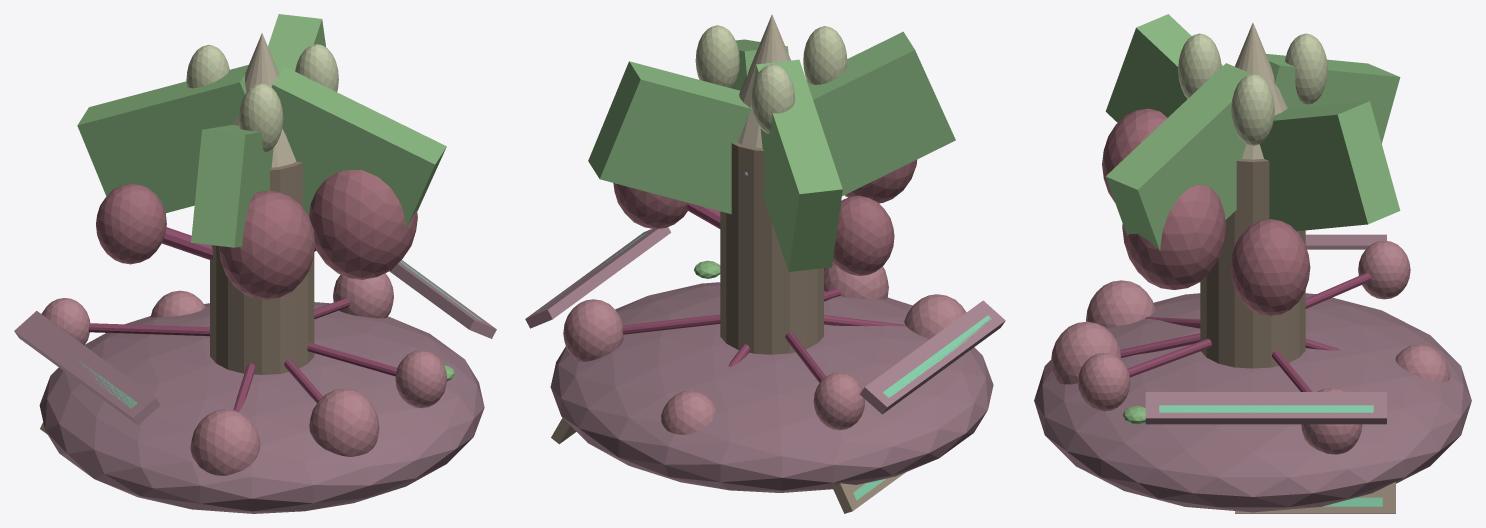
Rendered from zglengo_air_spire.glb.
3 renders of one model, left to right at view 1: azimuth 30°, elevation 25°; view 2: azimuth 150°, elevation 25°; view 3: azimuth 270°, elevation 25°, orthographic.
Parts seen in each view (by area): view 1: base_mound, wing_membrane_3, wing_membrane_0, spire_trunk, breathe_sac_3, wing_membrane_1, breathe_sac_2, membrane_0, breathe_sac_0, bubo_5, bubo_2, bubo_3 (+12 smaller); view 2: base_mound, wing_membrane_2, wing_membrane_1, spire_trunk, wing_membrane_3, membrane_0, breathe_sac_0, bubo_1, membrane_1, bubo_0, air_cyst_0, breathe_sac_1 (+12 smaller); view 3: base_mound, wing_membrane_2, wing_membrane_0, spire_trunk, membrane_1, breathe_sac_3, breathe_sac_1, wing_membrane_1, wing_membrane_3, bubo_5, air_cyst_0, bubo_3 (+15 smaller).
Part boxes in pixels (x1,y1,x2,y2): base_mound: [39, 302, 484, 513]; wing_membrane_3: [77, 64, 248, 212]; wing_membrane_0: [271, 66, 446, 229]; spire_trunk: [210, 161, 314, 374]; breathe_sac_3: [309, 170, 417, 279]; wing_membrane_1: [191, 125, 273, 247]; breathe_sac_2: [219, 190, 315, 300]; membrane_0: [14, 311, 160, 424]; breathe_sac_0: [96, 183, 166, 264]; bubo_5: [309, 388, 379, 456]; bubo_2: [190, 409, 260, 475]; bubo_3: [395, 350, 447, 408]; base_mound: [550, 282, 993, 492]; wing_membrane_2: [588, 61, 751, 214]; wing_membrane_1: [806, 31, 955, 196]; spire_trunk: [720, 142, 823, 354]; wing_membrane_3: [754, 59, 842, 271]; membrane_0: [860, 300, 1005, 414]; breathe_sac_0: [833, 195, 894, 275]; bubo_1: [563, 299, 623, 361]; membrane_1: [525, 227, 670, 328]; bubo_0: [813, 372, 865, 430]; air_cyst_0: [695, 25, 739, 88]; breathe_sac_1: [613, 183, 688, 229]; base_mound: [1034, 293, 1471, 512]; wing_membrane_2: [1259, 101, 1400, 231]; wing_membrane_0: [1105, 63, 1251, 251]; spire_trunk: [1200, 159, 1305, 368]; membrane_1: [1145, 392, 1386, 424]; breathe_sac_3: [1122, 185, 1225, 289]; breathe_sac_1: [1230, 219, 1310, 315]; wing_membrane_1: [1105, 14, 1222, 122]; wing_membrane_3: [1266, 54, 1400, 143]; bubo_5: [1051, 321, 1120, 384]; air_cyst_0: [1231, 74, 1274, 145]; bubo_3: [1078, 353, 1130, 411].
Size of the model in its own units: 2.04 by 2.15 by 1.96.
